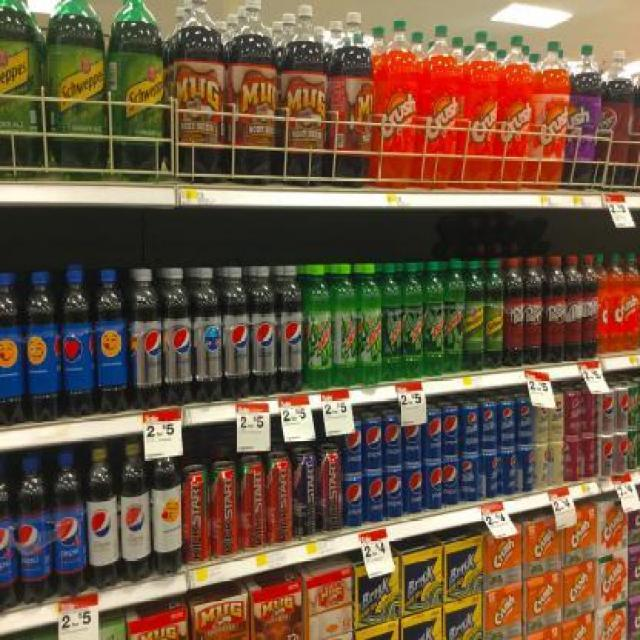Drinks: (595, 51, 635, 191), (15, 456, 51, 604), (50, 451, 86, 599), (86, 446, 120, 592), (128, 268, 162, 410), (119, 441, 153, 583), (191, 268, 223, 405), (161, 268, 192, 408), (249, 265, 277, 397), (304, 265, 332, 391), (225, 266, 251, 400), (277, 265, 303, 396), (332, 263, 356, 387), (357, 263, 381, 387), (423, 261, 446, 378), (401, 262, 423, 380), (542, 256, 566, 364), (445, 258, 467, 374), (502, 258, 524, 367), (523, 257, 543, 365), (382, 262, 400, 380), (0, 465, 15, 606), (565, 255, 583, 361), (583, 256, 600, 359), (342, 417, 364, 477), (363, 410, 383, 470), (403, 406, 423, 466), (383, 410, 403, 468), (363, 471, 383, 527), (342, 479, 364, 528), (384, 469, 404, 521), (459, 403, 479, 454), (403, 466, 423, 517), (423, 462, 443, 513), (423, 409, 441, 463), (479, 453, 499, 501), (441, 406, 459, 458), (478, 402, 496, 453), (497, 399, 515, 450), (442, 458, 460, 509), (460, 454, 478, 505), (563, 385, 580, 437), (515, 398, 533, 447), (498, 450, 516, 498), (516, 448, 534, 496), (595, 386, 613, 434), (548, 440, 565, 488), (595, 435, 613, 479), (564, 437, 581, 483), (534, 442, 550, 490), (548, 392, 564, 440), (580, 386, 596, 434), (614, 384, 630, 432), (580, 436, 596, 482), (615, 432, 629, 476), (533, 405, 549, 443)
